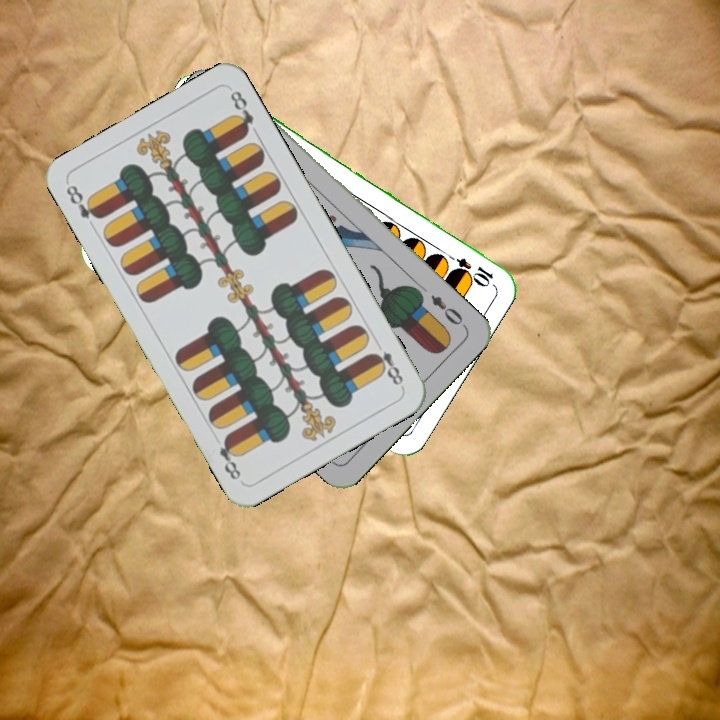E10: (440, 248, 496, 288)
E8: (367, 336, 406, 390), (62, 180, 105, 222)
EO: (426, 290, 469, 330)
